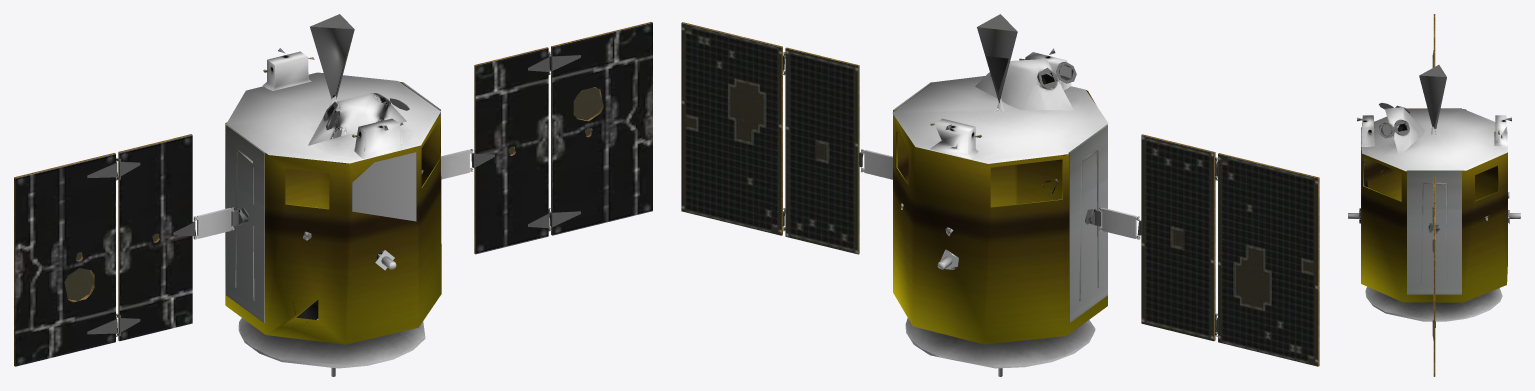
Rendered from clementine.glb.
The picture shows the model from 3 angles, left to right: view 1: azimuth 30°, elevation 25°; view 2: azimuth 150°, elevation 25°; view 3: azimuth 270°, elevation 25°; orthographic projection. The views are drawn at different scales.
Visible parts, largest first — view 1: tex_01, foil_gold, foil_white, AO_dish, AO_hinges, shiny_panel; view 2: shiny_panel, foil_gold, foil_white, tex_01, AO_dish, AO_hinges; view 3: foil_gold, tex_01, foil_white, AO_dish.
Part boxes in pixels (box(x1,y1,x2,y2)): tex_01: box(14, 14, 652, 366); foil_gold: box(225, 82, 441, 344); foil_white: box(226, 51, 440, 163); AO_dish: box(238, 250, 425, 376); AO_hinges: box(87, 51, 580, 336); shiny_panel: box(64, 87, 602, 300); shiny_panel: box(681, 23, 1318, 366); foil_gold: box(893, 90, 1107, 344); foil_white: box(892, 52, 1108, 163); tex_01: box(682, 14, 1319, 366); AO_dish: box(905, 179, 1095, 376); AO_hinges: box(782, 52, 1217, 336); foil_gold: box(1361, 109, 1507, 302); tex_01: box(1357, 14, 1511, 376); foil_white: box(1361, 107, 1507, 171); AO_dish: box(1348, 208, 1520, 327).
Size of the model in its own units: 4.13 by 2.18 by 1.34.
7 materials, 6 textured.
